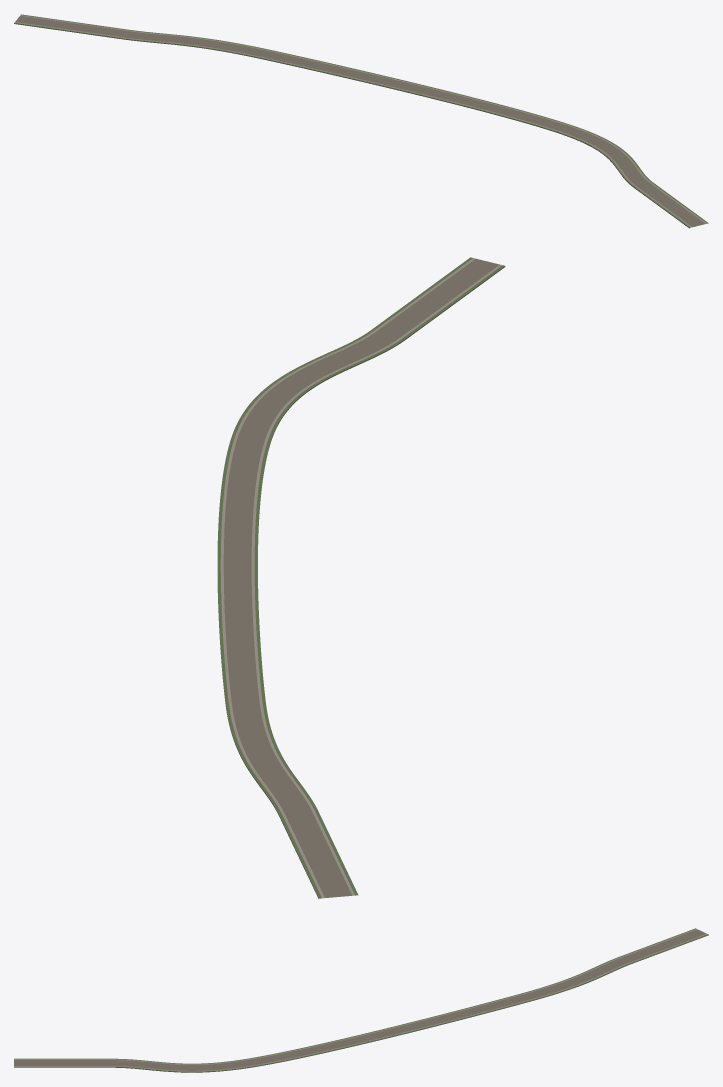
File: road_roam_to_stage_pine_ridge.glb
3 views of the same model, one above another, from view 1: azimuth 30°, elevation 25°; view 2: azimuth 150°, elevation 25°; view 3: azimuth 270°, elevation 25° (orthographic). The views are drawn at different scales.
Parts seen in each view (by area): view 1: road; view 2: road; view 3: road.
Part boxes in pixels (box(x1,y1,x2,y2)): road: box(14, 14, 708, 228); road: box(217, 257, 505, 898); road: box(14, 928, 708, 1072).
Bounding box in the file's own units: 202 × 0.32 × 413.
